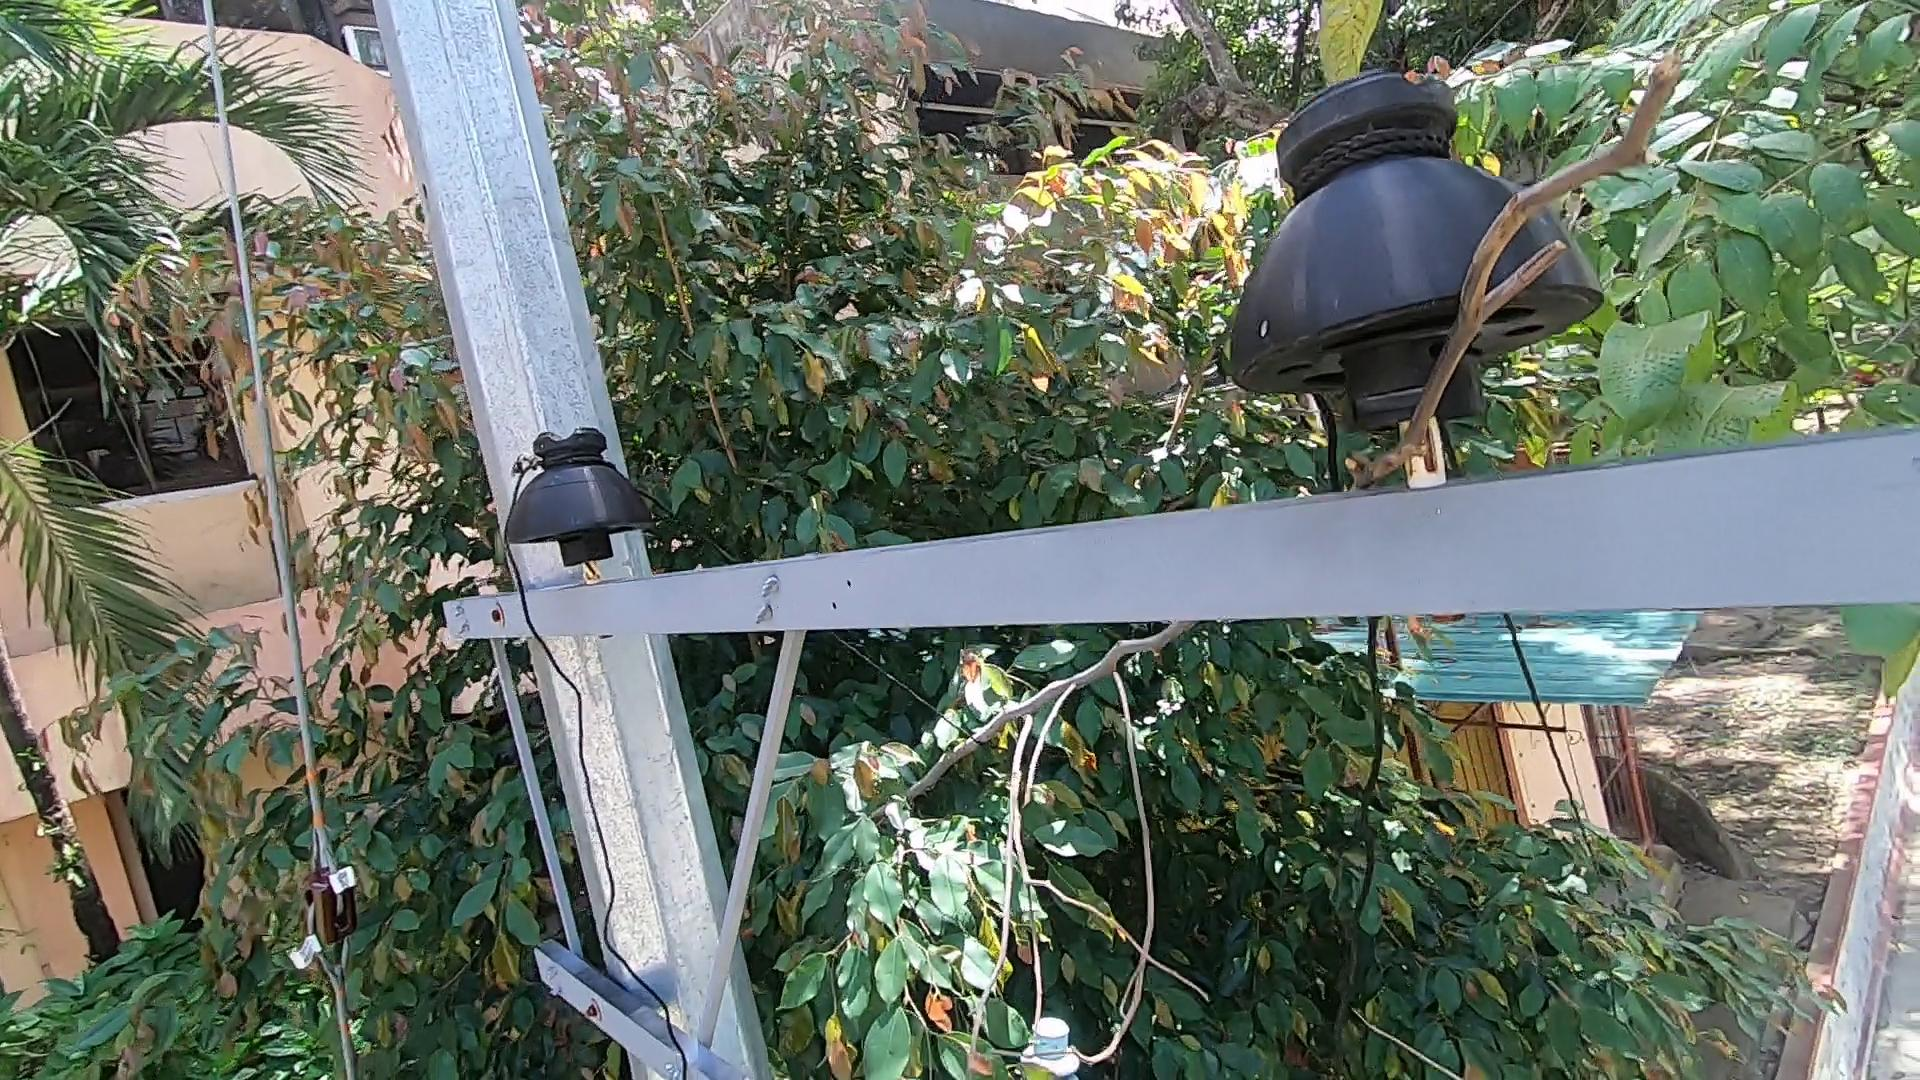tree branch: (833, 628, 1244, 1062), (1327, 38, 1709, 489)
